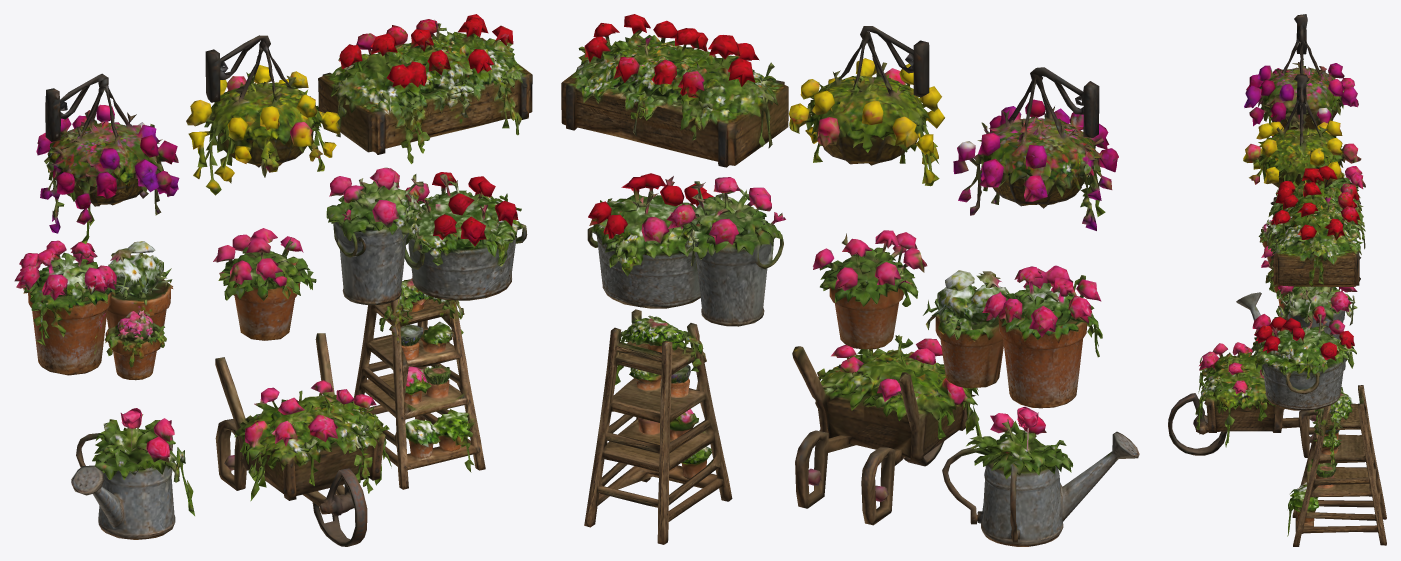
Rendered from zardinjera.glb.
3 renders of one model, left to right at view 1: azimuth 30°, elevation 25°; view 2: azimuth 150°, elevation 25°; view 3: azimuth 270°, elevation 25°, orthographic. The views are drawn at different scales.
Parts seen in each view (by area): view 1: tripo_node_a63532df-ecd7-4f25-aba7-90efbd42bc9f; view 2: tripo_node_a63532df-ecd7-4f25-aba7-90efbd42bc9f; view 3: tripo_node_a63532df-ecd7-4f25-aba7-90efbd42bc9f.
Part boxes in pixels (box(x1,y1,x2,y2)): tripo_node_a63532df-ecd7-4f25-aba7-90efbd42bc9f: box(14, 14, 532, 546); tripo_node_a63532df-ecd7-4f25-aba7-90efbd42bc9f: box(561, 14, 1139, 546); tripo_node_a63532df-ecd7-4f25-aba7-90efbd42bc9f: box(1168, 14, 1386, 546).
Bounding box in the file's own units: 0.9829 × 0.9247 × 0.4899.
1 material, 1 textured.
